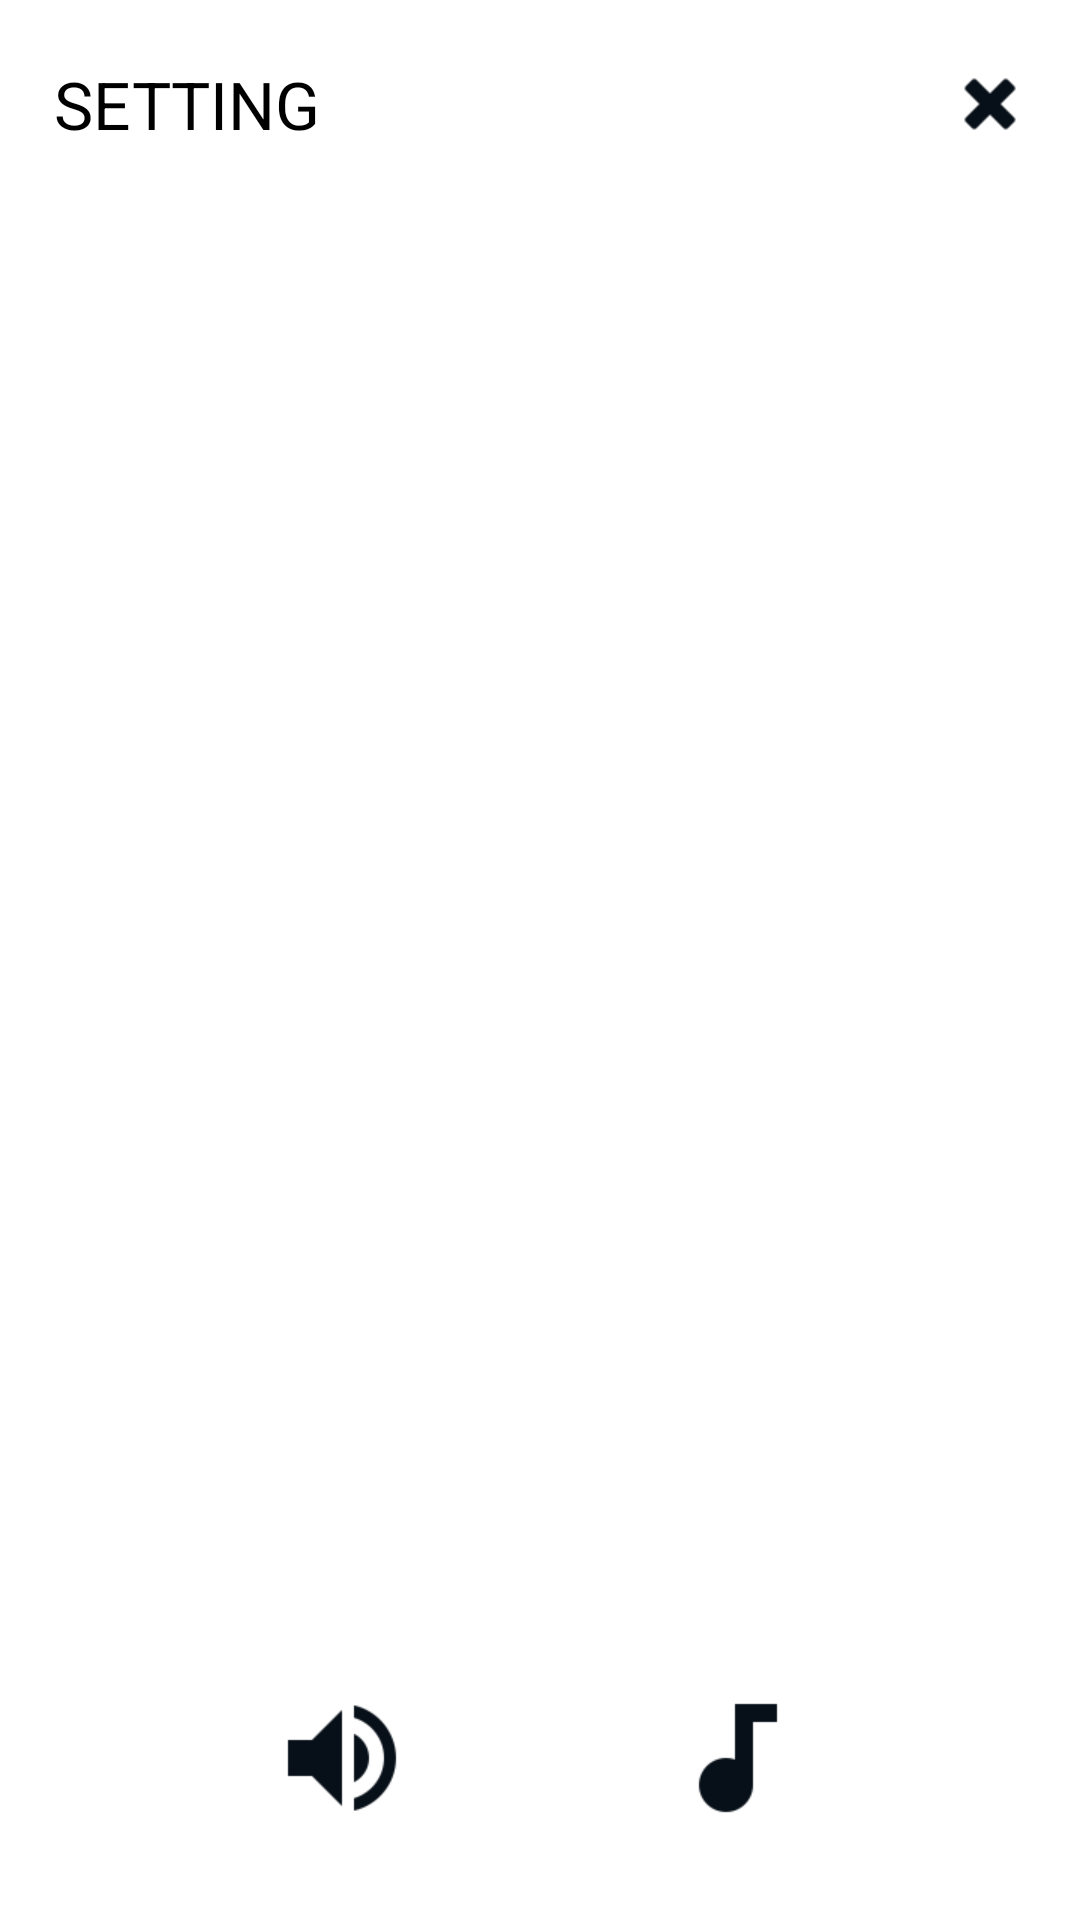

Where to tap for icons on this 1080*1920 app screen, as point (x, y):
pop audio on: point (342, 1758)
pop close: point (990, 104)
pop music on: point (738, 1758)
